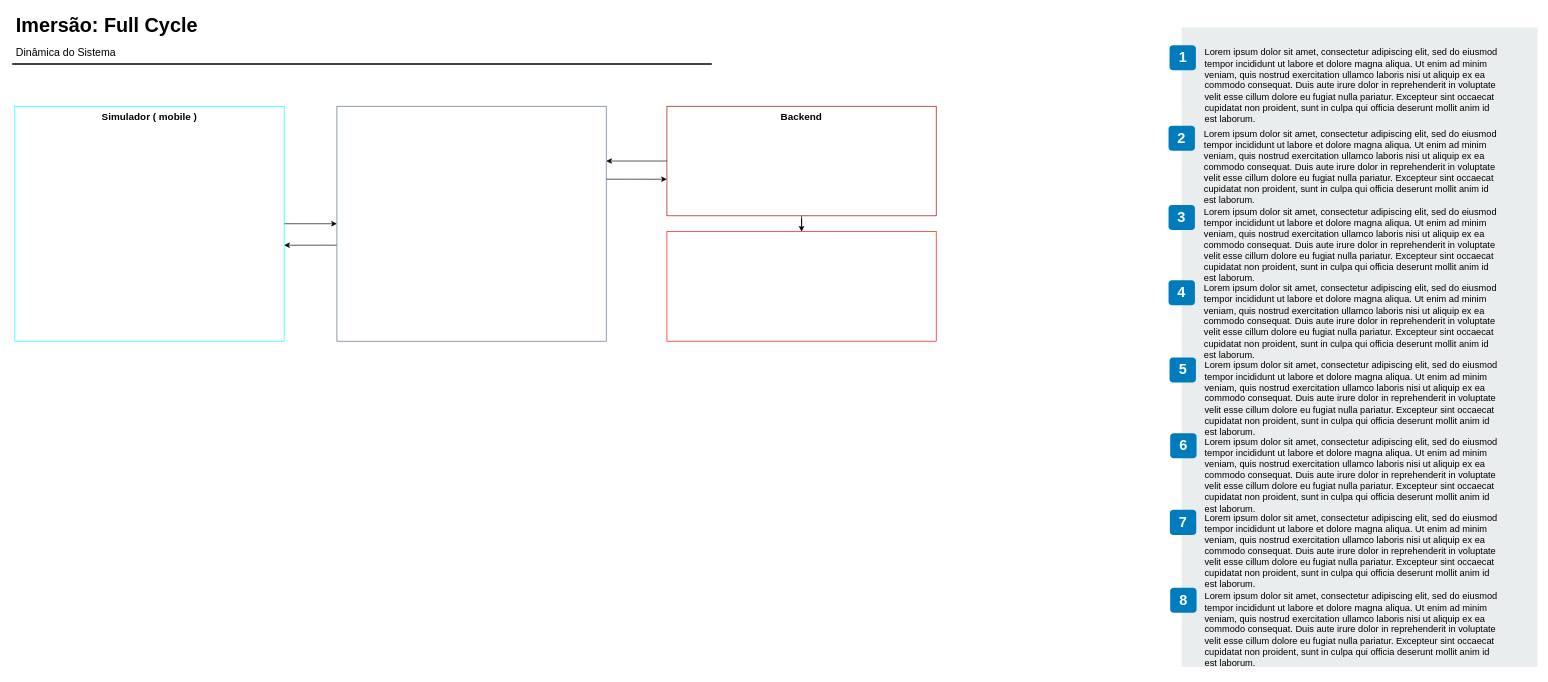
The diagram is 1548 pixels wide and 682 high, and some of its shapes have lost their labels. Here are the shapes that lost their labels. From the top down, the centre of each, then its label:
At (x=471, y=223): "Apache Kafka".
At (x=801, y=286): "Frontend".
